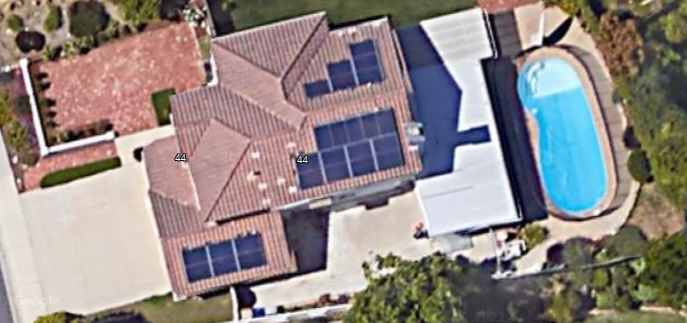poolww: (513, 43, 619, 227)
